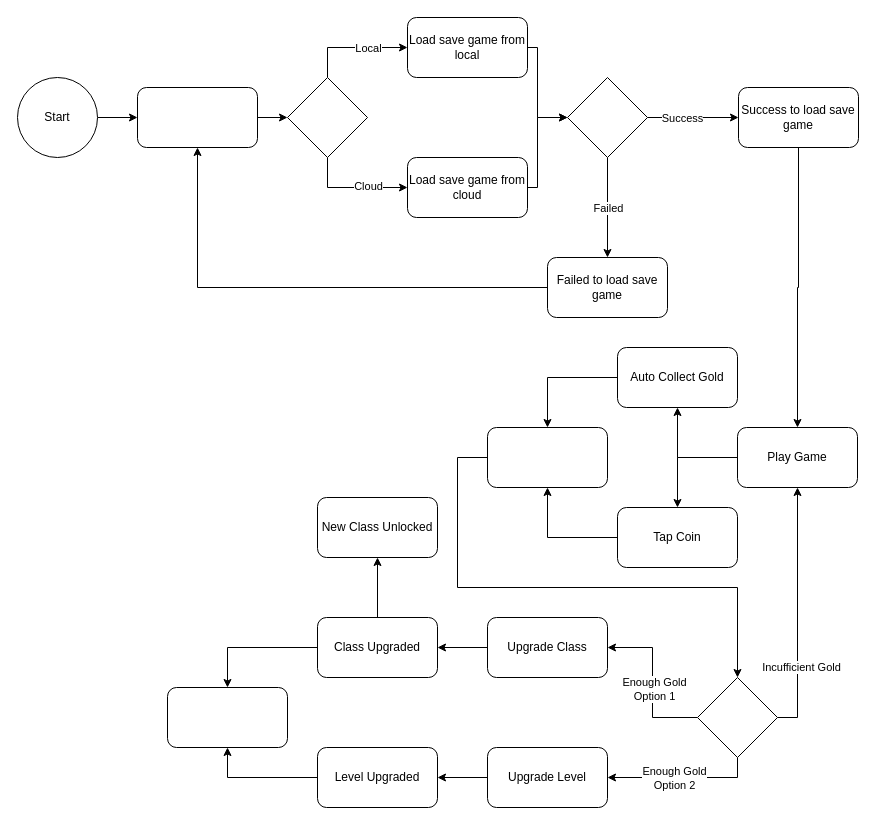
Image size: 876x825. Some labels were removed from this diagram. The shapes that lost their labels are listed below. From the top down, each one's centre as x and y in pixels, then its label:
the point at 197,117: Load Game
the point at 327,117: Player Choice
the point at 607,117: Verification
the point at 547,457: Recieve Gold
the point at 227,717: Increase Gold Output
the point at 737,717: Pay for
